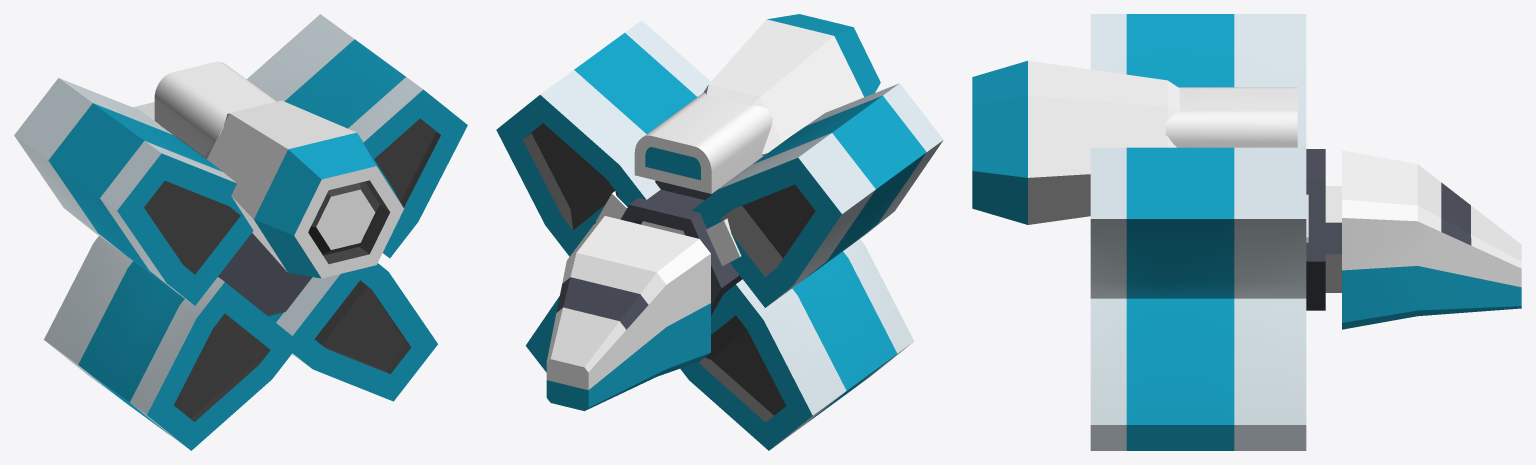
File: hero.obj
3 views of the same model, side by side, from view 1: azimuth 30°, elevation 25°; view 2: azimuth 150°, elevation 25°; view 3: azimuth 270°, elevation 25° (orthographic). The views are drawn at different scales.
Bounding box in the file's own units: 1.18 × 0.9868 × 1.53.
